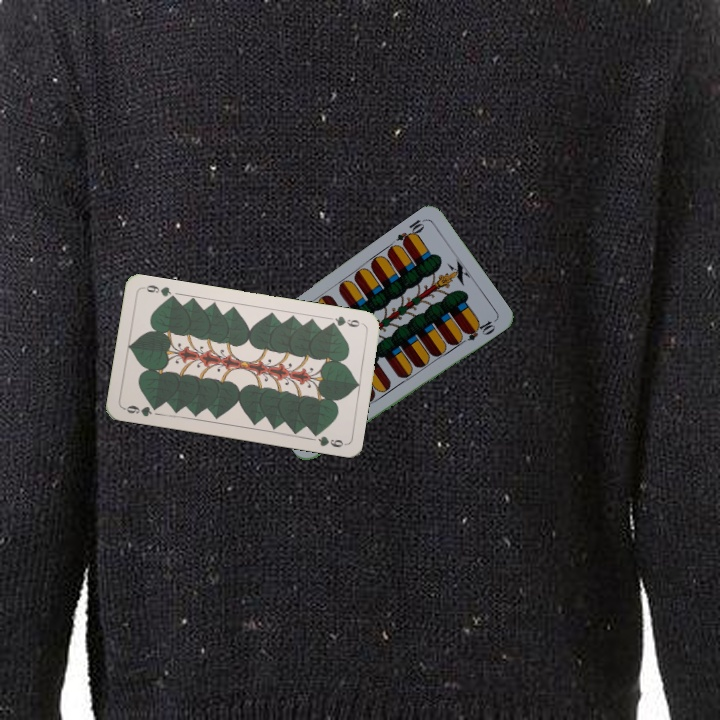E10: (393, 215, 428, 248)
G9: (120, 401, 161, 419), (325, 312, 362, 330)
